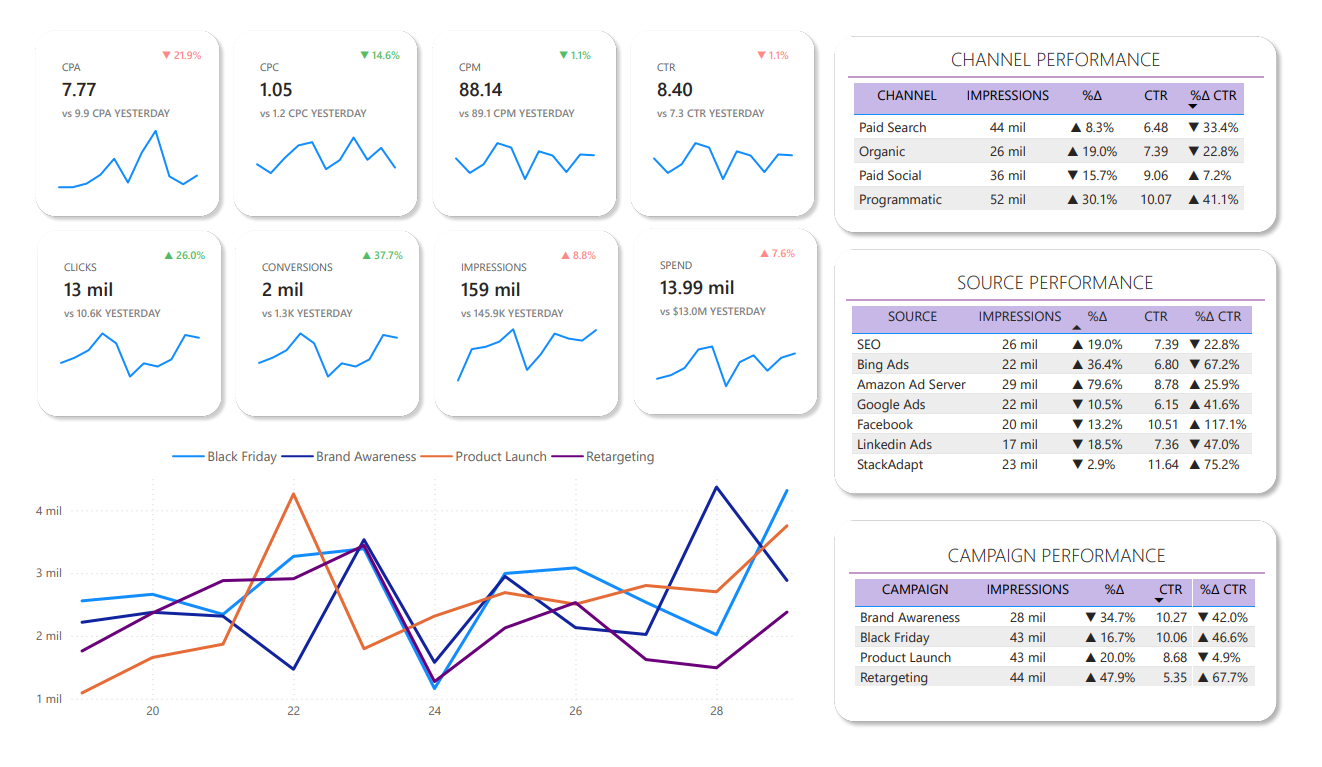

What the dashboard file says about the page in this screenshot:
{"tool":"powerbi","page":{"name":"TCS TASK ASSIGNMENT","canvas":[1280,720],"ordinal":0},"visuals":[{"type":"shape","box":[6.2,0,199.4,200.8],"z":0,"group":"g6"},{"type":"shape","box":[203.8,0,199.4,200.8],"z":0,"group":"g7"},{"type":"shape","box":[402.5,0,199.4,200.8],"z":0,"group":"g8"},{"type":"shape","box":[601.2,0,199.4,200.8],"z":0,"group":"g9"},{"type":"shape","box":[803.8,5,458.5,212.7],"z":0,"group":"g5"},{"type":"group","id":"g1","title":"Grupo 1","box":[603.8,197.5,198.8,201.2],"z":0},{"type":"shape","box":[603.8,197.5,199.4,200.8],"z":0,"group":"g1"},{"type":"shape","box":[206,199.8,199.4,200.8],"z":0,"group":"g3"},{"type":"shape","box":[405,200,199.4,200.8],"z":0,"group":"g2"},{"type":"shape","box":[7.8,200.4,199.4,200.8],"z":0,"group":"g4"},{"type":"cardVisual","title":"SPEND","fields":{"Data":["public CampaignMetric.CPA CD"]},"box":[28.3,17.5,154.7,80],"z":1000,"group":"g6"},{"type":"cardVisual","title":"SPEND","fields":{"Data":["public CampaignMetric.CPC CD"]},"box":[225.9,17.5,154.7,80],"z":1000,"group":"g7"},{"type":"cardVisual","title":"SPEND","fields":{"Data":["public CampaignMetric.CPM CD"]},"box":[424.6,17.5,154.7,80],"z":1000,"group":"g8"},{"type":"cardVisual","title":"SPEND","fields":{"Data":["public CampaignMetric.CTR CD"]},"box":[623.3,17.5,154.7,80],"z":1000,"group":"g9"},{"type":"tableEx","title":"CHANNEL PERFORMANCE","fields":{"Values":["public CampaignMetric.channel","public CampaignMetric.IMPRESSIONS CD","public CampaignMetric.VAR% IMPRESSIONS","public CampaignMetric.CTR CD","public CampaignMetric.VAR% CTR"]},"box":[826.3,23.5,415.9,175.3],"z":1000,"group":"g5"},{"type":"group","id":"g2","title":"Grupo 1","box":[405,200,198.8,201.2],"z":1000},{"type":"cardVisual","title":"SPEND","fields":{"Data":["public CampaignMetric.SPEND CD"]},"box":[625.9,215,154.7,80],"z":1000,"group":"g1"},{"type":"cardVisual","title":"SPEND","fields":{"Data":["public CampaignMetric.CONVERSIONS CD"]},"box":[228.1,217.3,154.7,80],"z":1000,"group":"g3"},{"type":"cardVisual","title":"SPEND","fields":{"Data":["public CampaignMetric.IMPRESSIONS CD"]},"box":[427.1,217.5,154.7,80],"z":1000,"group":"g2"},{"type":"cardVisual","title":"SPEND","fields":{"Data":["public CampaignMetric.CLICKS CD"]},"box":[29.9,217.9,154.7,80],"z":1000,"group":"g4"},{"type":"cardVisual","fields":{"Data":["public CampaignMetric.CPA LABEL"]},"box":[26.9,64.8,154.7,46.7],"z":2000,"group":"g6"},{"type":"cardVisual","fields":{"Data":["public CampaignMetric.CPC LABEL"]},"box":[224.5,64.8,154.7,46.7],"z":2000,"group":"g7"},{"type":"cardVisual","fields":{"Data":["public CampaignMetric.CPM LABEL"]},"box":[423.2,64.8,154.7,46.7],"z":2000,"group":"g8"},{"type":"cardVisual","fields":{"Data":["public CampaignMetric.CTR LABEL"]},"box":[621.9,64.8,154.7,46.7],"z":2000,"group":"g9"},{"type":"group","id":"g3","title":"Grupo 1","box":[206,199.8,199.5,200.4],"z":2000},{"type":"cardVisual","fields":{"Data":["public CampaignMetric.SPEND LABEL"]},"box":[624.5,262.3,154.7,46.7],"z":2000,"group":"g1"},{"type":"cardVisual","fields":{"Data":["public CampaignMetric.CONVERSIONS LABEL"]},"box":[226.7,264.6,154.7,46.7],"z":2000,"group":"g3"},{"type":"cardVisual","fields":{"Data":["public CampaignMetric.IMPRESSIONS LABEL"]},"box":[425.7,264.8,154.7,46.7],"z":2000,"group":"g2"},{"type":"cardVisual","fields":{"Data":["public CampaignMetric.CLICKS LABEL"]},"box":[28.5,265.2,154.7,46.7],"z":2000,"group":"g4"},{"type":"lineChart","fields":{"Y":["public CampaignMetric.CPA CD"],"Category":["public CampaignMetric.Date Only.Variación.Jerarquía de fechas.Año","public CampaignMetric.Date Only.Variación.Jerarquía de fechas.Mes","public CampaignMetric.Date Only.Variación.Jerarquía de fechas.Día"]},"box":[21.8,92.4,168.5,85.4],"z":3000,"group":"g6"},{"type":"lineChart","fields":{"Y":["public CampaignMetric.CPC CD"],"Category":["public CampaignMetric.Date Only.Variación.Jerarquía de fechas.Año","public CampaignMetric.Date Only.Variación.Jerarquía de fechas.Mes","public CampaignMetric.Date Only.Variación.Jerarquía de fechas.Día"]},"box":[219.4,92.4,168.5,85.4],"z":3000,"group":"g7"},{"type":"lineChart","fields":{"Y":["public CampaignMetric.CPM CD"],"Category":["public CampaignMetric.Date Only.Variación.Jerarquía de fechas.Año","public CampaignMetric.Date Only.Variación.Jerarquía de fechas.Mes","public CampaignMetric.Date Only.Variación.Jerarquía de fechas.Día"]},"box":[418.1,92.4,168.5,85.4],"z":3000,"group":"g8"},{"type":"lineChart","fields":{"Y":["public CampaignMetric.CPM CD"],"Category":["public CampaignMetric.Date Only.Variación.Jerarquía de fechas.Año","public CampaignMetric.Date Only.Variación.Jerarquía de fechas.Mes","public CampaignMetric.Date Only.Variación.Jerarquía de fechas.Día"]},"box":[616.8,92.4,168.5,85.4],"z":3000,"group":"g9"},{"type":"group","id":"g4","title":"Grupo 1","box":[7.8,200.4,199.4,200.3],"z":3000},{"type":"lineChart","fields":{"Y":["public CampaignMetric.SPEND CD"],"Category":["public CampaignMetric.Date Only.Variación.Jerarquía de fechas.Año","public CampaignMetric.Date Only.Variación.Jerarquía de fechas.Mes","public CampaignMetric.Date Only.Variación.Jerarquía de fechas.Día"]},"box":[619.4,289.9,168.5,85.4],"z":3000,"group":"g1"},{"type":"lineChart","fields":{"Y":["public CampaignMetric.CONVERSIONS CD"],"Category":["public CampaignMetric.Date Only.Variación.Jerarquía de fechas.Año","public CampaignMetric.Date Only.Variación.Jerarquía de fechas.Mes","public CampaignMetric.Date Only.Variación.Jerarquía de fechas.Día"]},"box":[221.6,292.2,168.5,85.4],"z":3000,"group":"g3"},{"type":"lineChart","fields":{"Y":["public CampaignMetric.IMPRESSIONS CD"],"Category":["public CampaignMetric.Date Only.Variación.Jerarquía de fechas.Año","public CampaignMetric.Date Only.Variación.Jerarquía de fechas.Mes","public CampaignMetric.Date Only.Variación.Jerarquía de fechas.Día"]},"box":[420.6,292.4,168.5,85.4],"z":3000,"group":"g2"},{"type":"lineChart","fields":{"Y":["public CampaignMetric.CONVERSIONS CD"],"Category":["public CampaignMetric.Date Only.Variación.Jerarquía de fechas.Año","public CampaignMetric.Date Only.Variación.Jerarquía de fechas.Mes","public CampaignMetric.Date Only.Variación.Jerarquía de fechas.Día"]},"box":[23.4,292.8,168.5,85.4],"z":3000,"group":"g4"},{"type":"cardVisual","fields":{"Data":["public CampaignMetric.VAR% CPA"]},"box":[121.6,0.2,84,60],"z":4000,"group":"g6"},{"type":"cardVisual","fields":{"Data":["public CampaignMetric.VAR% CPC"]},"box":[319.2,0.2,84,60],"z":4000,"group":"g7"},{"type":"cardVisual","fields":{"Data":["public CampaignMetric.VAR% CPM"]},"box":[517.9,0.2,84,60],"z":4000,"group":"g8"},{"type":"cardVisual","fields":{"Data":["public CampaignMetric.VAR% CTR"]},"box":[716.6,0.2,84,60],"z":4000,"group":"g9"},{"type":"cardVisual","fields":{"Data":["public CampaignMetric.VAR% SPEND"]},"box":[719.2,197.7,84,60],"z":4000,"group":"g1"},{"type":"cardVisual","fields":{"Data":["public CampaignMetric.VAR% CONVERSIONS"]},"box":[321.4,200,84,60],"z":4000,"group":"g3"},{"type":"cardVisual","fields":{"Data":["public CampaignMetric.VAR% IMPRESSIONS"]},"box":[520.4,200.2,84,60],"z":4000,"group":"g2"},{"type":"cardVisual","fields":{"Data":["public CampaignMetric.VAR% CLICKS"]},"box":[123.2,200.6,84,60],"z":4000,"group":"g4"},{"type":"lineChart","fields":{"Y":["public CampaignMetric.CLICKS CD"],"Category":["public CampaignMetric.Date Only.Variación.Jerarquía de fechas.Día"],"Series":["public CampaignMetric.campaignName"]},"box":[8.8,412.5,771.2,293.8],"z":4000},{"type":"group","id":"g5","title":"Grupo 2","box":[803.8,5,458.8,212.5],"z":5000},{"type":"shape","box":[803.8,217.5,458.8,261.2],"z":6000,"group":"g10"},{"type":"tableEx","title":"SOURCE PERFORMANCE","fields":{"Values":["public CampaignMetric.platform","public CampaignMetric.IMPRESSIONS CD","public CampaignMetric.VAR% IMPRESSIONS","public CampaignMetric.CTR CD","public CampaignMetric.VAR% CTR"]},"box":[823.8,245,418.8,218.8],"z":7000,"group":"g10"},{"type":"shape","box":[803.8,488.8,458.8,217.5],"z":8000,"group":"g11"},{"type":"tableEx","title":"CAMPAIGN PERFORMANCE","fields":{"Values":["public CampaignMetric.campaignName","public CampaignMetric.IMPRESSIONS CD","public CampaignMetric.VAR% IMPRESSIONS","public CampaignMetric.CTR CD","public CampaignMetric.VAR% CTR"]},"box":[826.3,518.8,416.2,157.5],"z":9000,"group":"g11"},{"type":"group","id":"g6","title":"Grupo 1","box":[6.2,0,200,201.2],"z":10000},{"type":"group","id":"g7","title":"Grupo 1","box":[203.8,0,200,201.2],"z":11000},{"type":"group","id":"g8","title":"Grupo 1","box":[402.5,0,200,201.2],"z":12000},{"type":"group","id":"g9","title":"Grupo 1","box":[601.2,0,200,201.2],"z":12001},{"type":"group","id":"g10","title":"Grupo 3","box":[803.8,217.5,458.8,261.2],"z":12002},{"type":"group","id":"g11","title":"Grupo 4","box":[803.8,488.8,458.8,217.5],"z":12003}]}

Visuals, with their boxes on the page's 1280x720 design canvas (x1, y1, x2, y2). These are canvas units, not pixel positions in the 1322x767 screenshot, which may show the page scaled, cropped or inside an application window:
shape: Rect(6, 0, 206, 201)
shape: Rect(204, 0, 403, 201)
shape: Rect(402, 0, 602, 201)
shape: Rect(601, 0, 801, 201)
shape: Rect(804, 5, 1262, 218)
"Grupo 1" group: Rect(604, 198, 803, 399)
shape: Rect(604, 198, 803, 398)
shape: Rect(206, 200, 405, 401)
shape: Rect(405, 200, 604, 401)
shape: Rect(8, 200, 207, 401)
"SPEND" cardVisual: Rect(28, 18, 183, 98)
"SPEND" cardVisual: Rect(226, 18, 381, 98)
"SPEND" cardVisual: Rect(425, 18, 579, 98)
"SPEND" cardVisual: Rect(623, 18, 778, 98)
"CHANNEL PERFORMANCE" tableEx: Rect(826, 24, 1242, 199)
"Grupo 1" group: Rect(405, 200, 604, 401)
"SPEND" cardVisual: Rect(626, 215, 781, 295)
"SPEND" cardVisual: Rect(228, 217, 383, 297)
"SPEND" cardVisual: Rect(427, 218, 582, 298)
"SPEND" cardVisual: Rect(30, 218, 185, 298)
cardVisual - public CampaignMetric.CPA LABEL: Rect(27, 65, 182, 112)
cardVisual - public CampaignMetric.CPC LABEL: Rect(224, 65, 379, 112)
cardVisual - public CampaignMetric.CPM LABEL: Rect(423, 65, 578, 112)
cardVisual - public CampaignMetric.CTR LABEL: Rect(622, 65, 777, 112)
"Grupo 1" group: Rect(206, 200, 406, 400)
cardVisual - public CampaignMetric.SPEND LABEL: Rect(624, 262, 779, 309)
cardVisual - public CampaignMetric.CONVERSIONS LABEL: Rect(227, 265, 381, 311)
cardVisual - public CampaignMetric.IMPRESSIONS LABEL: Rect(426, 265, 580, 312)
cardVisual - public CampaignMetric.CLICKS LABEL: Rect(28, 265, 183, 312)
lineChart - public CampaignMetric.CPA CD x public CampaignMetric.Date Only.Variación.Jerarquía de fechas.Año: Rect(22, 92, 190, 178)
lineChart - public CampaignMetric.CPC CD x public CampaignMetric.Date Only.Variación.Jerarquía de fechas.Año: Rect(219, 92, 388, 178)
lineChart - public CampaignMetric.CPM CD x public CampaignMetric.Date Only.Variación.Jerarquía de fechas.Año: Rect(418, 92, 587, 178)
lineChart - public CampaignMetric.CPM CD x public CampaignMetric.Date Only.Variación.Jerarquía de fechas.Año: Rect(617, 92, 785, 178)
"Grupo 1" group: Rect(8, 200, 207, 401)
lineChart - public CampaignMetric.SPEND CD x public CampaignMetric.Date Only.Variación.Jerarquía de fechas.Año: Rect(619, 290, 788, 375)
lineChart - public CampaignMetric.CONVERSIONS CD x public CampaignMetric.Date Only.Variación.Jerarquía de fechas.Año: Rect(222, 292, 390, 378)
lineChart - public CampaignMetric.IMPRESSIONS CD x public CampaignMetric.Date Only.Variación.Jerarquía de fechas.Año: Rect(421, 292, 589, 378)
lineChart - public CampaignMetric.CONVERSIONS CD x public CampaignMetric.Date Only.Variación.Jerarquía de fechas.Año: Rect(23, 293, 192, 378)
cardVisual - public CampaignMetric.VAR% CPA: Rect(122, 0, 206, 60)
cardVisual - public CampaignMetric.VAR% CPC: Rect(319, 0, 403, 60)
cardVisual - public CampaignMetric.VAR% CPM: Rect(518, 0, 602, 60)
cardVisual - public CampaignMetric.VAR% CTR: Rect(717, 0, 801, 60)
cardVisual - public CampaignMetric.VAR% SPEND: Rect(719, 198, 803, 258)
cardVisual - public CampaignMetric.VAR% CONVERSIONS: Rect(321, 200, 405, 260)
cardVisual - public CampaignMetric.VAR% IMPRESSIONS: Rect(520, 200, 604, 260)
cardVisual - public CampaignMetric.VAR% CLICKS: Rect(123, 201, 207, 261)
lineChart - public CampaignMetric.CLICKS CD x public CampaignMetric.Date Only.Variación.Jerarquía de fechas.Día: Rect(9, 412, 780, 706)
"Grupo 2" group: Rect(804, 5, 1263, 218)
shape: Rect(804, 218, 1263, 479)
"SOURCE PERFORMANCE" tableEx: Rect(824, 245, 1243, 464)
shape: Rect(804, 489, 1263, 706)
"CAMPAIGN PERFORMANCE" tableEx: Rect(826, 519, 1242, 676)
"Grupo 1" group: Rect(6, 0, 206, 201)
"Grupo 1" group: Rect(204, 0, 404, 201)
"Grupo 1" group: Rect(402, 0, 602, 201)
"Grupo 1" group: Rect(601, 0, 801, 201)
"Grupo 3" group: Rect(804, 218, 1263, 479)
"Grupo 4" group: Rect(804, 489, 1263, 706)
